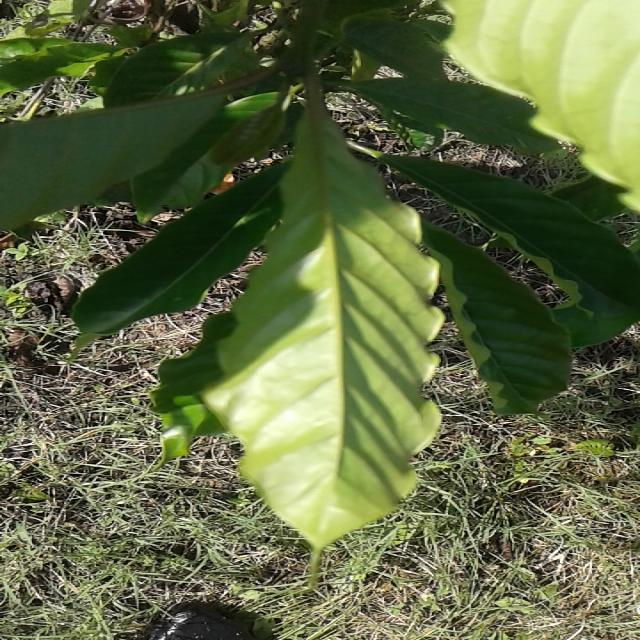Sanas: (204, 79, 446, 552)
